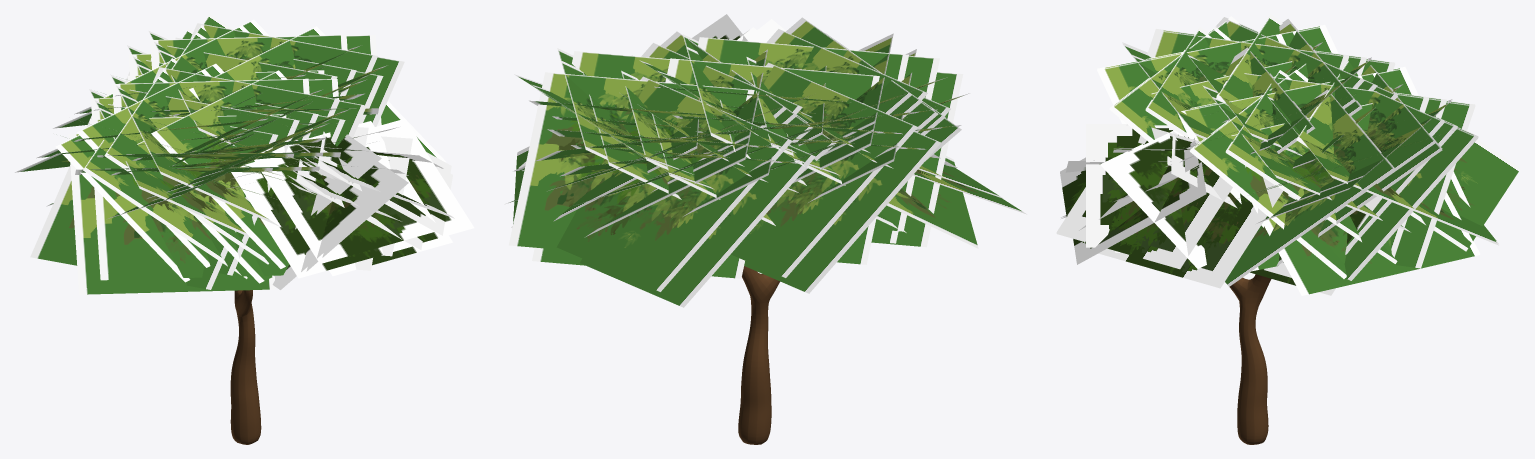
File: Tree5.fbx
The picture shows the model from 3 angles, left to right: view 1: azimuth 30°, elevation 25°; view 2: azimuth 150°, elevation 25°; view 3: azimuth 270°, elevation 25°; orthographic projection. The views are drawn at different scales.
Parts seen in each view (by area): view 1: tree branch green 1.001, Cube; view 2: tree branch green 1.001, Cube; view 3: tree branch green 1.001, Cube.
Part boxes in pixels (left/top/right/bottom): tree branch green 1.001: left=15, top=14, right=474, bottom=294; Cube: left=230, top=290, right=261, bottom=444; tree branch green 1.001: left=506, top=14, right=1026, bottom=307; Cube: left=738, top=266, right=780, bottom=444; tree branch green 1.001: left=1056, top=14, right=1520, bottom=295; Cube: left=1229, top=274, right=1271, bottom=444.
Bounding box in the file's own units: 129 × 102 × 123.
